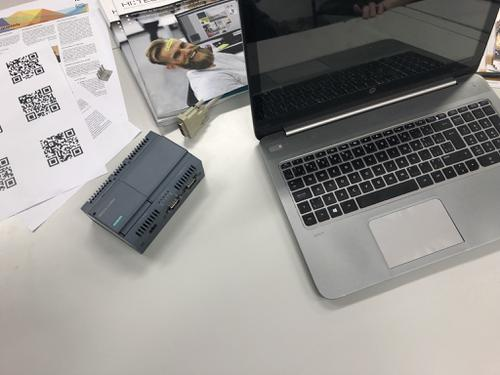device: (81, 131, 206, 255)
